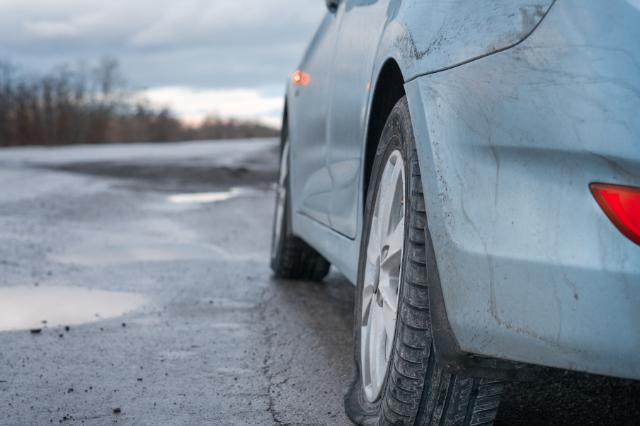Bumper: (403, 0, 640, 379)
Fender: (394, 0, 563, 75)
